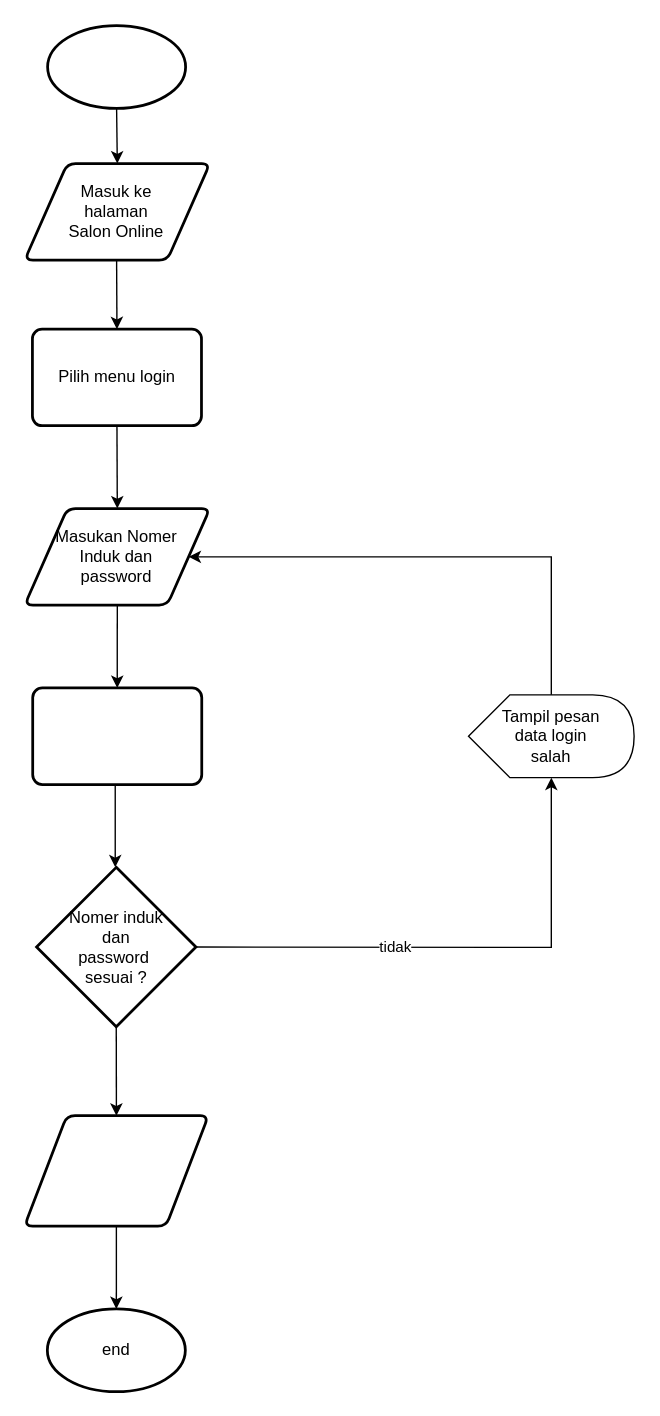
Some shapes in this 660 by 1416 pixel diagram are drawn without their labels. Each missing label, with the box of its shape:
Dashboard User atau master admin: (22, 1114, 209, 1227)
Klik tombol login: (31, 686, 202, 785)
Start: (46, 23, 186, 109)
